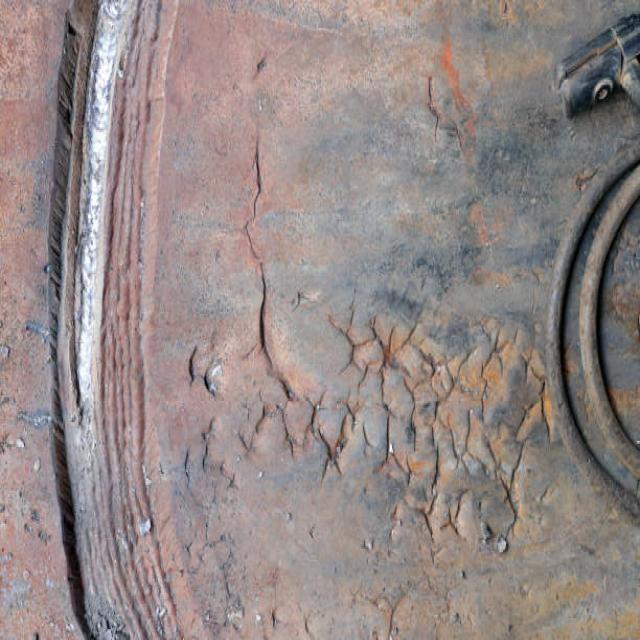Defect: (316, 301, 550, 541), (242, 136, 280, 388)
